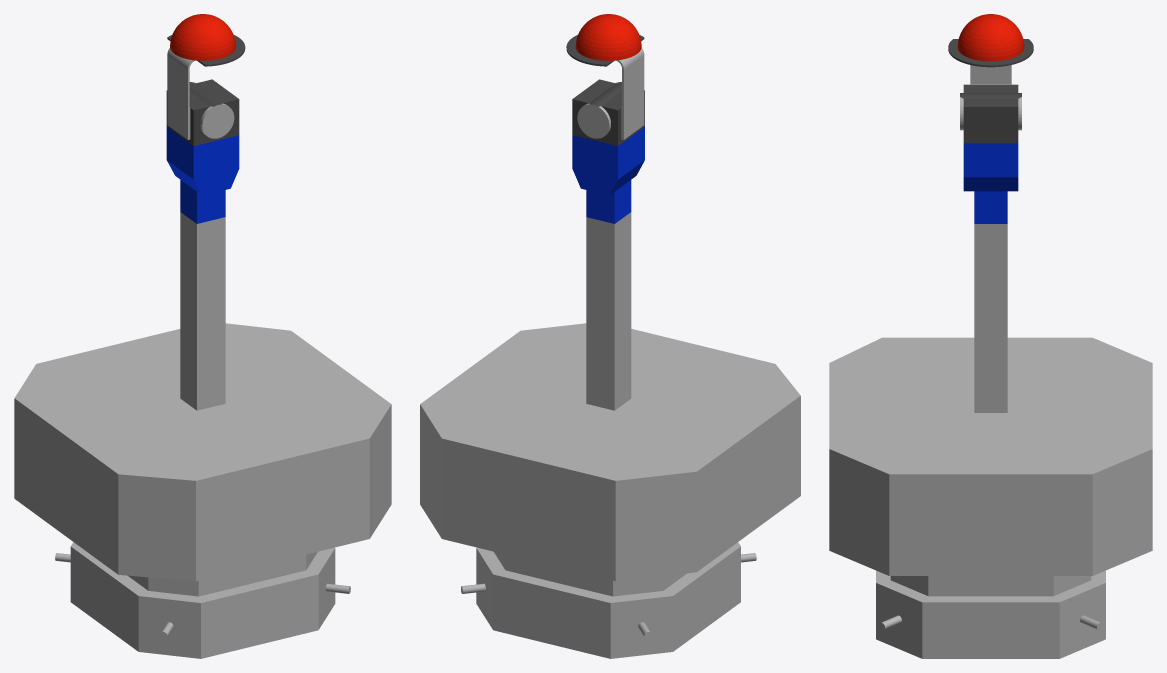
Rendered from base_link_old.dae.
3 renders of one model, left to right at view 1: azimuth 30°, elevation 25°; view 2: azimuth 150°, elevation 25°; view 3: azimuth 270°, elevation 25°, orthographic.
Visible parts, largest first — view 1: base_for_sim; view 2: base_for_sim; view 3: base_for_sim.
Part boxes in pixels (x1,y1,x2,y2): base_for_sim: [14, 14, 391, 658]; base_for_sim: [420, 14, 800, 658]; base_for_sim: [829, 14, 1152, 658].
Size of the model in its own units: 0.242 by 0.242 by 0.4897.
